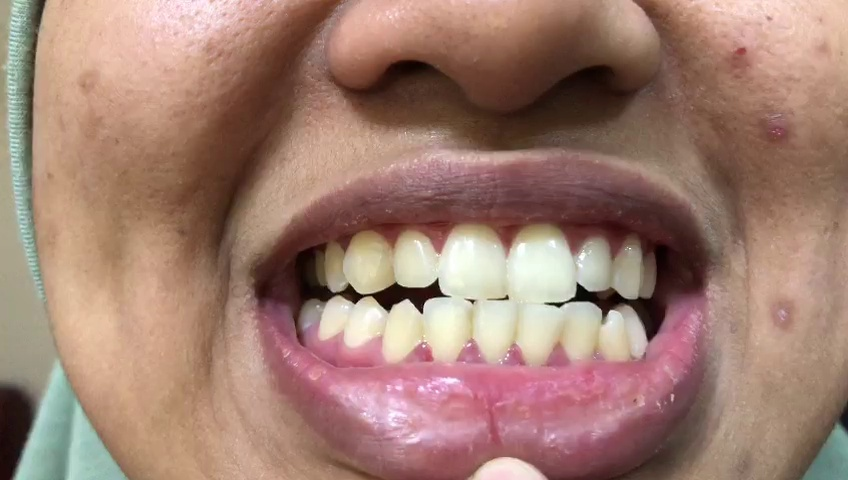1st Molar: (298, 295, 327, 334)
1st Premolar: (344, 295, 386, 354), (326, 228, 350, 297), (618, 303, 646, 358), (640, 242, 658, 299)
2nd Premolar: (318, 299, 353, 345)
Canine: (342, 231, 391, 293), (384, 296, 421, 365), (612, 231, 644, 301), (600, 307, 631, 366)
Central Incisor: (439, 218, 510, 301), (510, 221, 576, 303), (516, 300, 566, 368), (470, 300, 518, 365)
Lateral Incisor: (422, 298, 470, 362), (394, 225, 439, 288), (561, 302, 600, 362), (576, 234, 613, 293)
